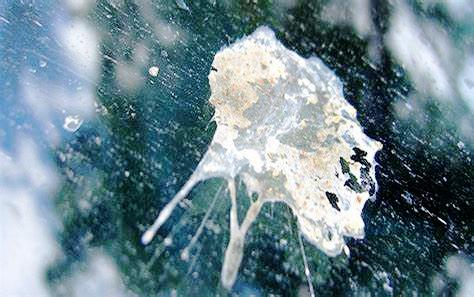Bird Poop: (143, 27, 382, 289), (63, 115, 83, 131), (148, 68, 158, 76)
